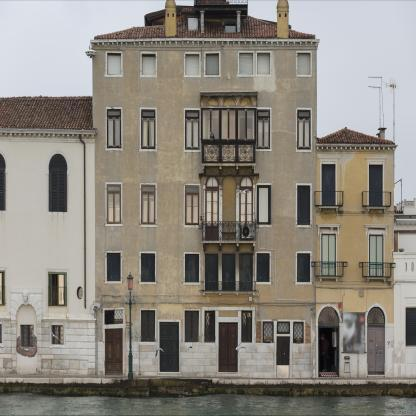Balcony: (201, 221, 257, 244)
Building Outline: (90, 0, 398, 378)
Cornice: (200, 91, 258, 96), (365, 157, 387, 162), (364, 224, 389, 228), (316, 224, 341, 228), (318, 157, 340, 161)
Deco: (241, 176, 252, 187), (207, 176, 218, 187), (205, 98, 220, 106), (222, 98, 237, 106), (239, 98, 253, 106)
Door: (318, 326, 339, 378), (218, 322, 238, 375), (159, 322, 179, 372), (367, 327, 385, 377), (105, 329, 123, 375), (239, 188, 253, 241), (205, 188, 219, 240), (277, 336, 290, 378)
Facade: (90, 0, 398, 378)
Floor: (95, 168, 316, 246), (93, 96, 317, 168), (95, 246, 316, 301), (93, 46, 317, 96), (316, 216, 394, 286)
Floor Slab: (93, 91, 317, 96), (93, 41, 316, 46), (95, 164, 317, 169), (95, 241, 316, 246), (95, 296, 316, 301), (316, 212, 394, 216), (316, 282, 394, 286)
Ground Floor: (95, 301, 316, 378), (316, 287, 394, 378)
Molding: (90, 38, 320, 47), (316, 144, 398, 150), (316, 210, 395, 216), (316, 281, 394, 287)
Roof: (317, 127, 395, 145)
Sill: (201, 163, 256, 174), (202, 241, 257, 251), (202, 291, 256, 296), (319, 276, 339, 282), (366, 206, 386, 212), (319, 206, 339, 212), (366, 277, 387, 282)
Top Floor: (94, 7, 316, 40), (316, 150, 394, 216), (182, 11, 241, 46)
Window: (321, 234, 336, 276), (369, 235, 383, 277), (185, 110, 200, 149), (322, 164, 336, 205), (369, 165, 383, 206), (107, 109, 121, 149), (141, 109, 155, 149), (185, 185, 199, 225), (238, 109, 256, 140), (202, 109, 220, 140), (220, 109, 238, 140), (107, 184, 121, 223), (141, 185, 155, 224), (297, 185, 310, 225), (239, 254, 253, 291), (205, 254, 219, 291), (298, 110, 311, 149), (257, 110, 270, 149), (257, 185, 270, 224), (222, 254, 235, 291), (184, 310, 199, 342), (141, 311, 155, 342), (141, 253, 155, 282), (318, 307, 339, 326), (107, 253, 121, 281), (185, 254, 199, 282), (367, 306, 385, 327), (297, 253, 310, 282), (257, 253, 270, 282), (241, 311, 252, 343), (205, 311, 215, 342), (107, 53, 121, 75), (142, 53, 156, 75), (186, 53, 200, 75), (206, 53, 220, 75), (239, 53, 253, 75), (298, 53, 311, 75), (257, 53, 270, 75), (105, 310, 124, 324), (293, 322, 304, 343), (263, 322, 273, 343), (277, 321, 290, 334), (188, 18, 198, 30), (225, 23, 236, 33)
